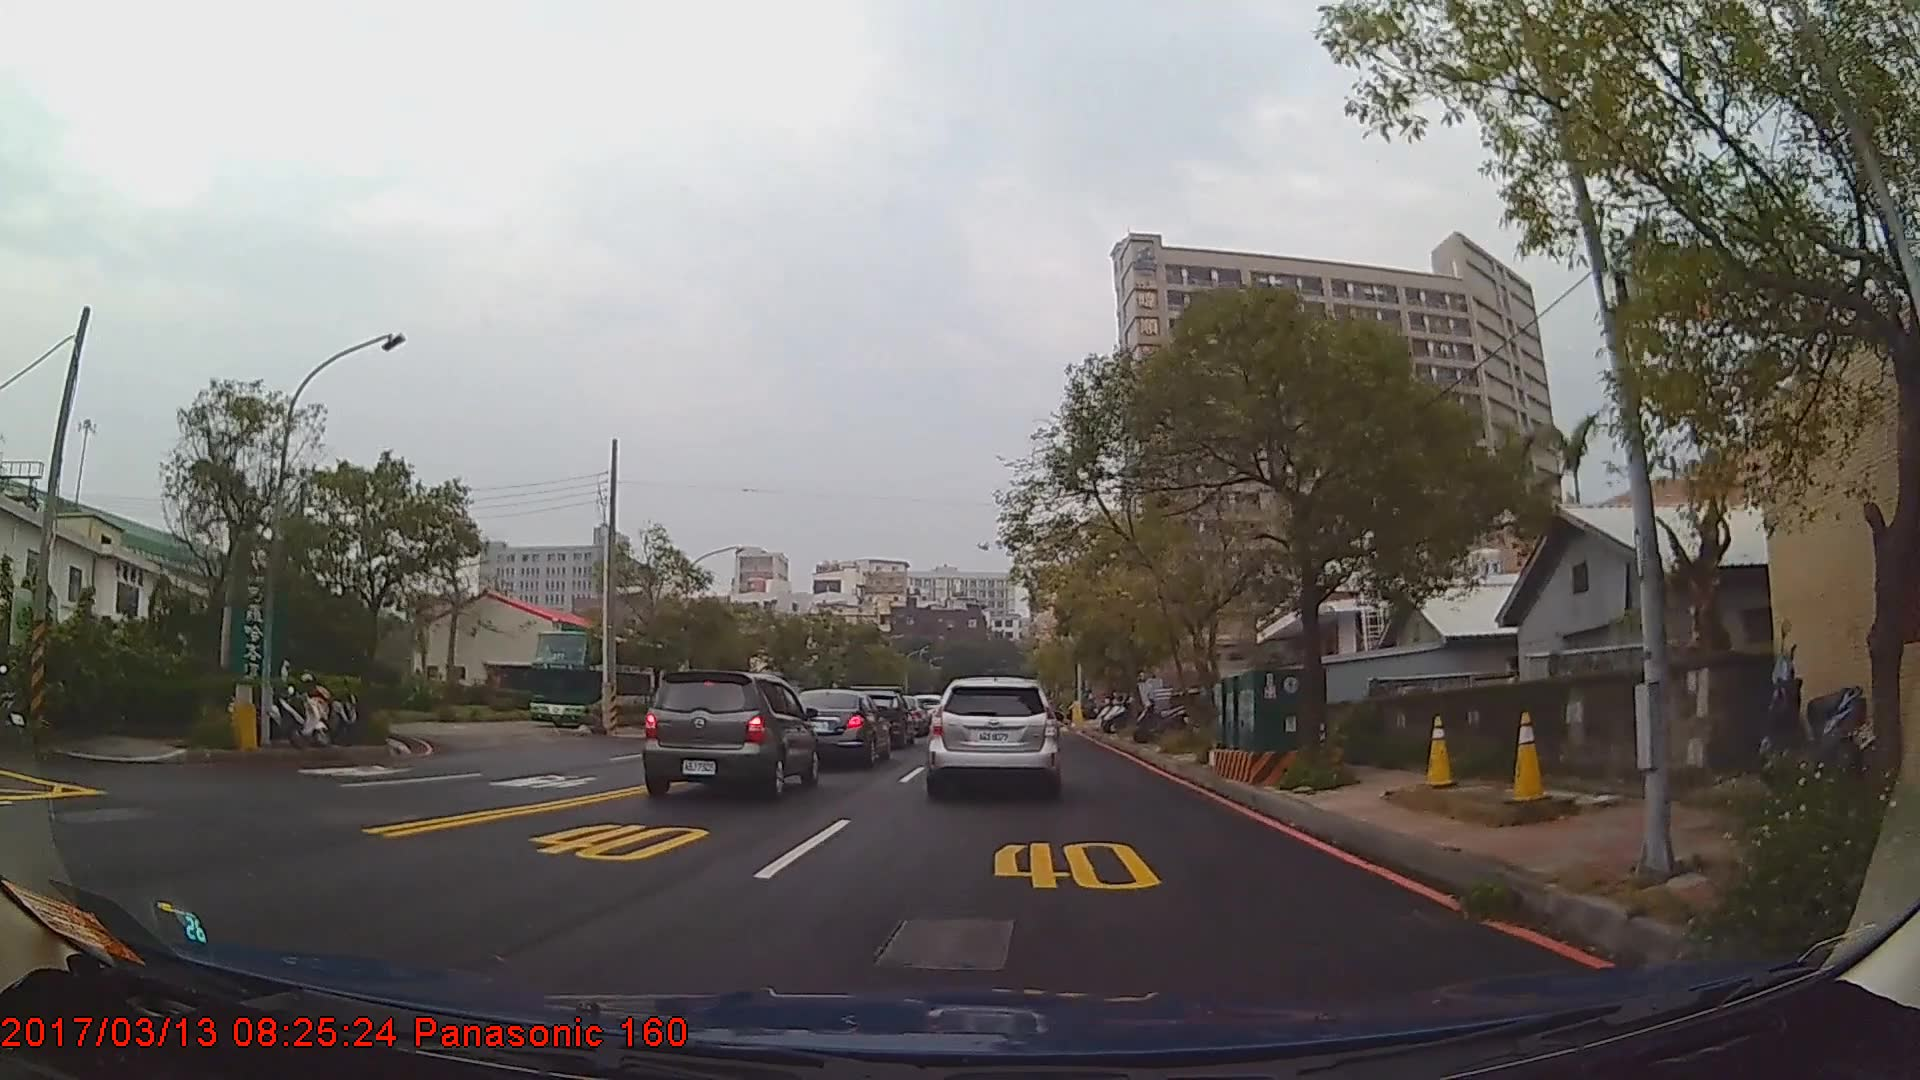vehicle: (637, 669, 815, 800), (526, 629, 684, 735), (926, 673, 1062, 793), (781, 687, 890, 770)
